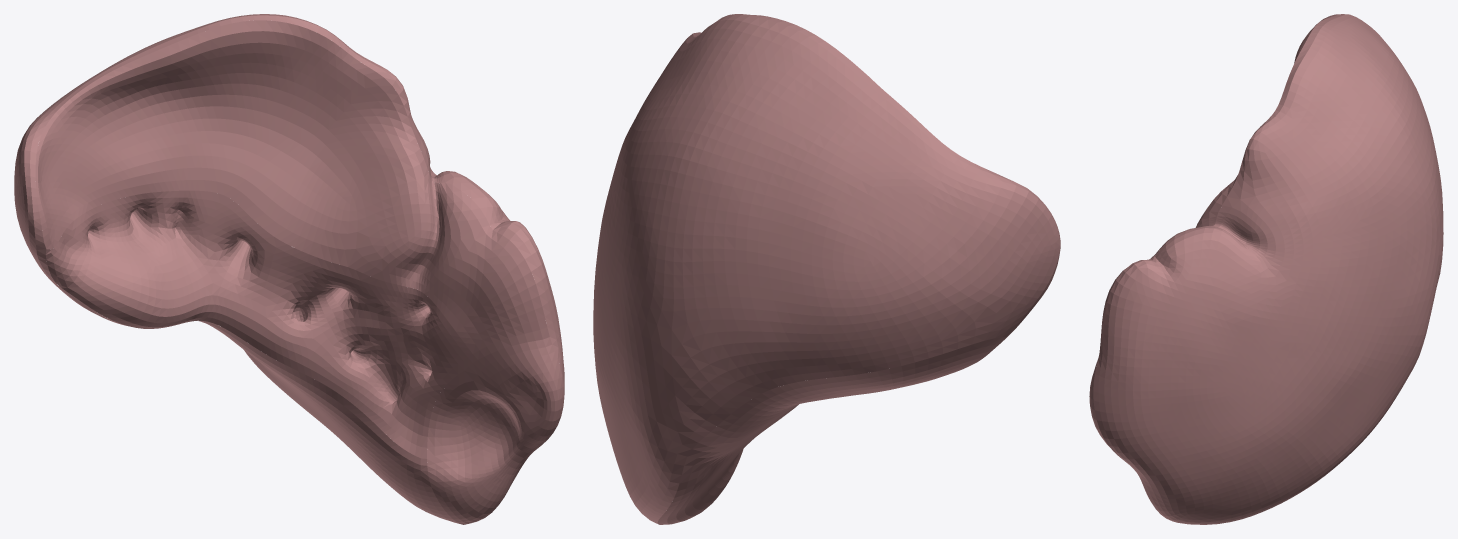
File: spleen.glb
3 renders of one model, left to right at view 1: azimuth 30°, elevation 25°; view 2: azimuth 150°, elevation 25°; view 3: azimuth 270°, elevation 25°, orthographic. The views are drawn at different scales.
Parts seen in each view (by area): view 1: VH_M_gastric_surface_of_spleen, VH_M_hilum_of_spleen, VH_M_colic_surface_of_spleen, VH_M_diaphragmatic_surface_of_spleen, VH_M_renal_surface_of_spleen; view 2: VH_M_diaphragmatic_surface_of_spleen, VH_M_renal_surface_of_spleen; view 3: VH_M_diaphragmatic_surface_of_spleen, VH_M_gastric_surface_of_spleen.
Part boxes in pixels (x1,y1,x2,y2): VH_M_gastric_surface_of_spleen: [35, 20, 549, 359]; VH_M_hilum_of_spleen: [45, 190, 477, 458]; VH_M_colic_surface_of_spleen: [427, 337, 564, 524]; VH_M_diaphragmatic_surface_of_spleen: [14, 14, 564, 505]; VH_M_renal_surface_of_spleen: [51, 281, 459, 523]; VH_M_diaphragmatic_surface_of_spleen: [593, 14, 1060, 523]; VH_M_renal_surface_of_spleen: [657, 337, 1006, 524]; VH_M_diaphragmatic_surface_of_spleen: [1093, 14, 1443, 524]; VH_M_gastric_surface_of_spleen: [1149, 27, 1314, 259].
Size of the model in its own units: 0.1104 by 0.1186 by 0.0886.
